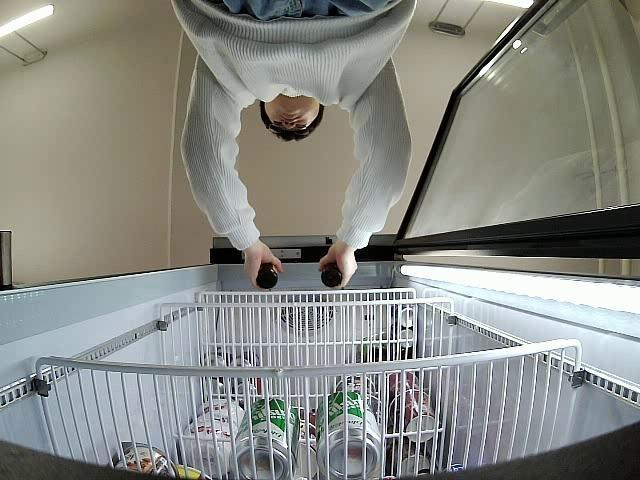17_vita500: (320, 260, 343, 288), (258, 260, 278, 289)
